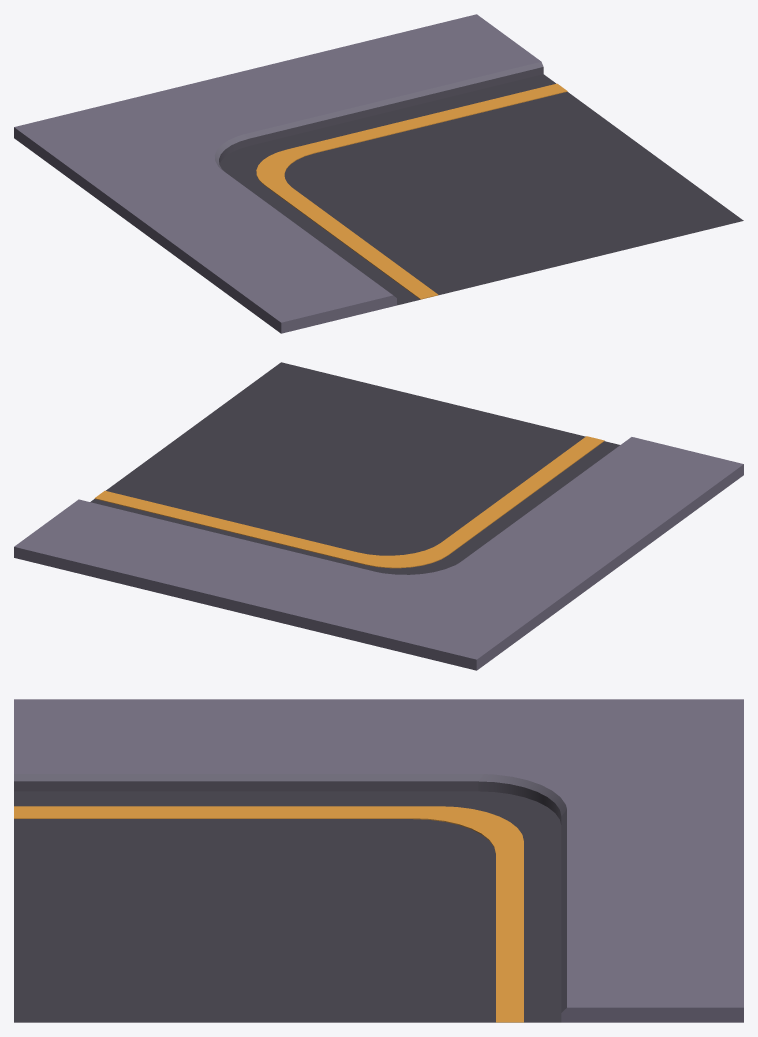
File: street.L_duz.fbx
3 renders of one model, top to bottom at view 1: azimuth 30°, elevation 25°; view 2: azimuth 150°, elevation 25°; view 3: azimuth 270°, elevation 25°, orthographic. The views are drawn at different scales.
Visible parts, largest first — view 1: yol.003; view 2: yol.003; view 3: yol.003.
Boxes of the visible parts, x1,y1,x2,y2 form: yol.003: (14, 14, 743, 333); yol.003: (14, 362, 743, 670); yol.003: (14, 699, 743, 1022).
Bounding box in the file's own units: 779 × 17.75 × 779.
Materials: 3 (1 with a texture image).
